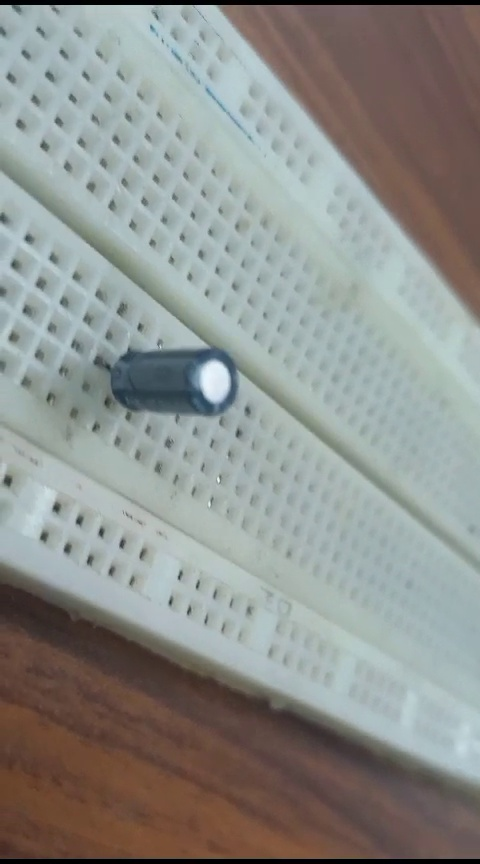capacitor: (88, 335, 254, 429)
